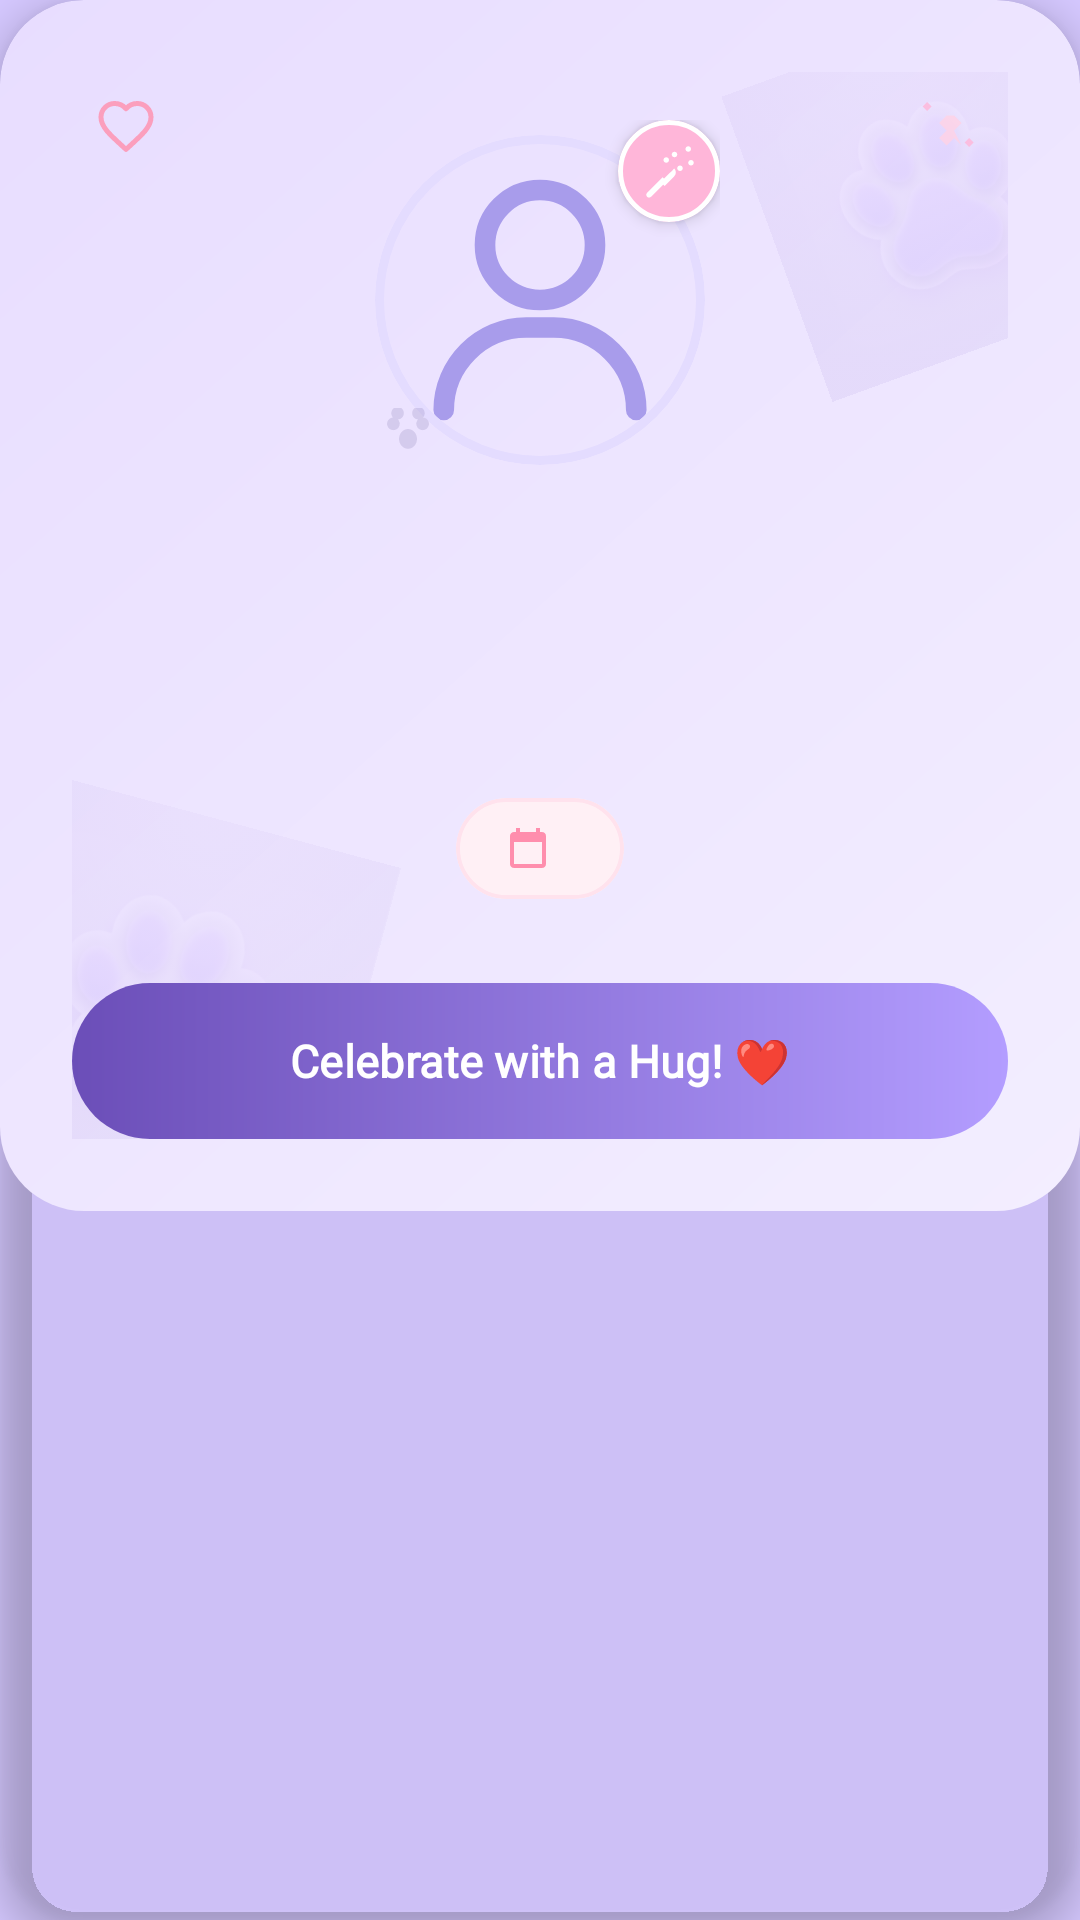

Icons on this 1080x1920 Android screen, each with its box as bbox(x1, y1, x2, y2):
calendar: bbox(510, 828, 546, 868)
heart: bbox(98, 101, 154, 152)
